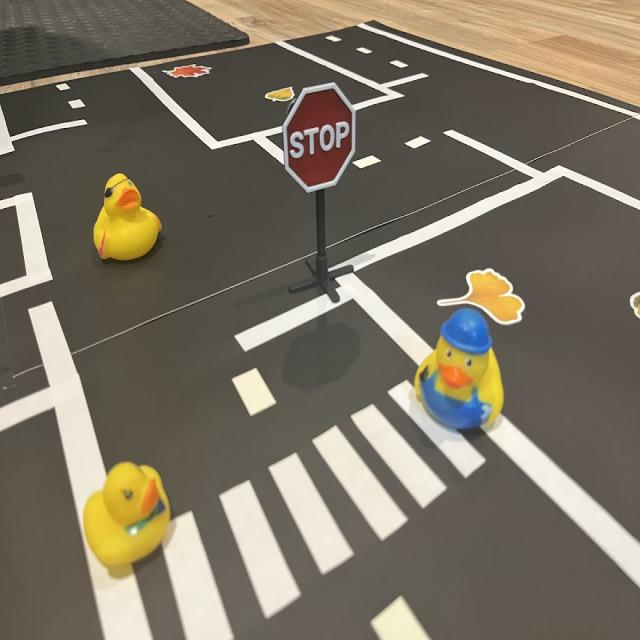duck_regular: (82, 458, 174, 570)
duck_specialty: (413, 306, 508, 437), (92, 170, 166, 265)
road_crosswalk: (149, 371, 500, 640)
sign_stop: (285, 83, 357, 193)
